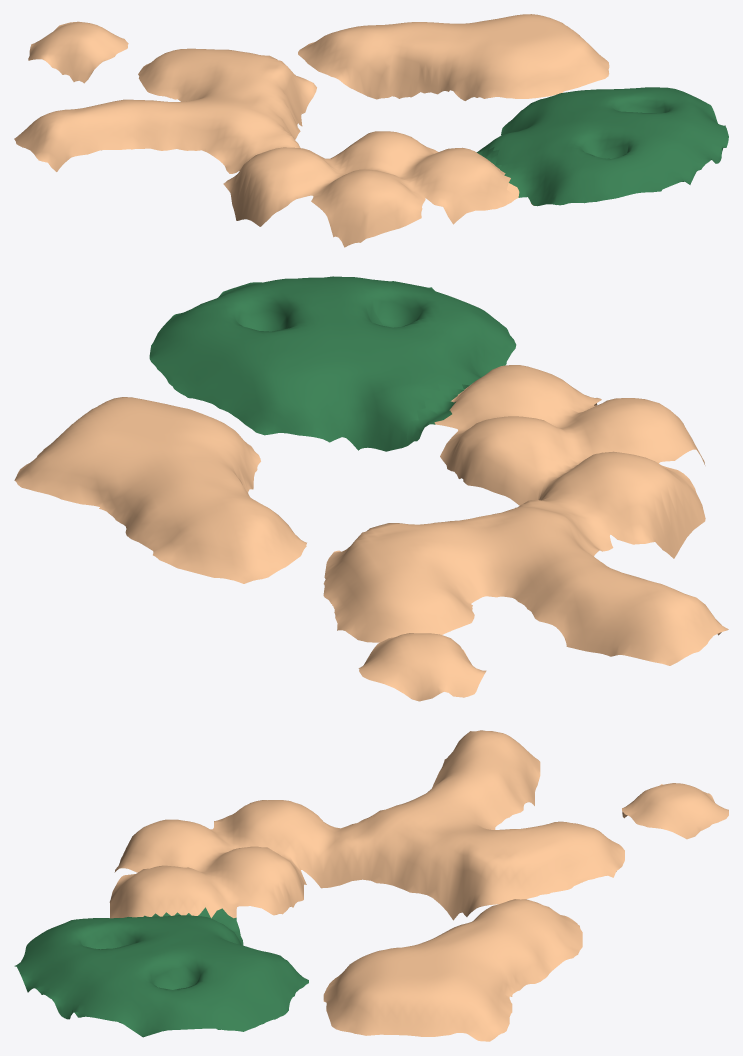
File: ilhas.fbx
3 renders of one model, top to bottom at view 1: azimuth 30°, elevation 25°; view 2: azimuth 150°, elevation 25°; view 3: azimuth 270°, elevation 25°, orthographic. The views are drawn at different scales.
Parts seen in each view (by area): view 1: Ilhas, IlhaGrama; view 2: Ilhas, IlhaGrama; view 3: Ilhas, IlhaGrama.
Part boxes in pixels (x1,y1,x2,y2): Ilhas: (14,14,609,247); IlhaGrama: (480,87,728,206); Ilhas: (14,365,728,701); IlhaGrama: (149,276,516,451); Ilhas: (109,730,728,1041); IlhaGrama: (14,913,308,1037).
Bounding box in the file's own units: 6281 × 748 × 6352.
